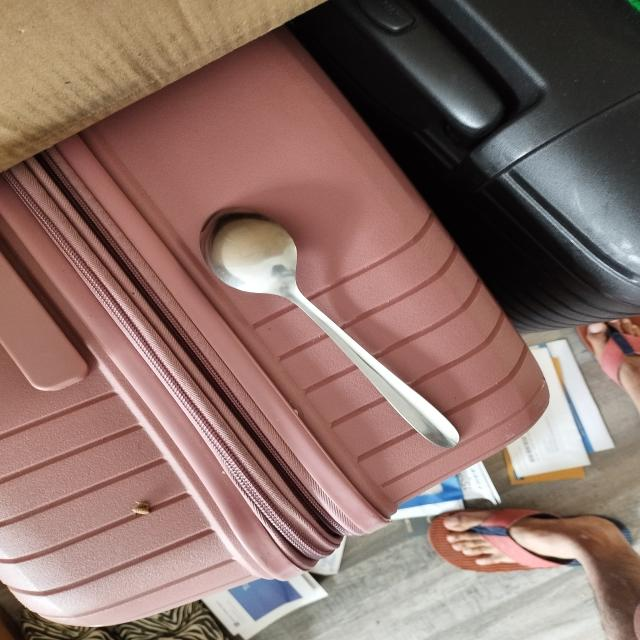Spoon: (180, 182, 495, 452)
